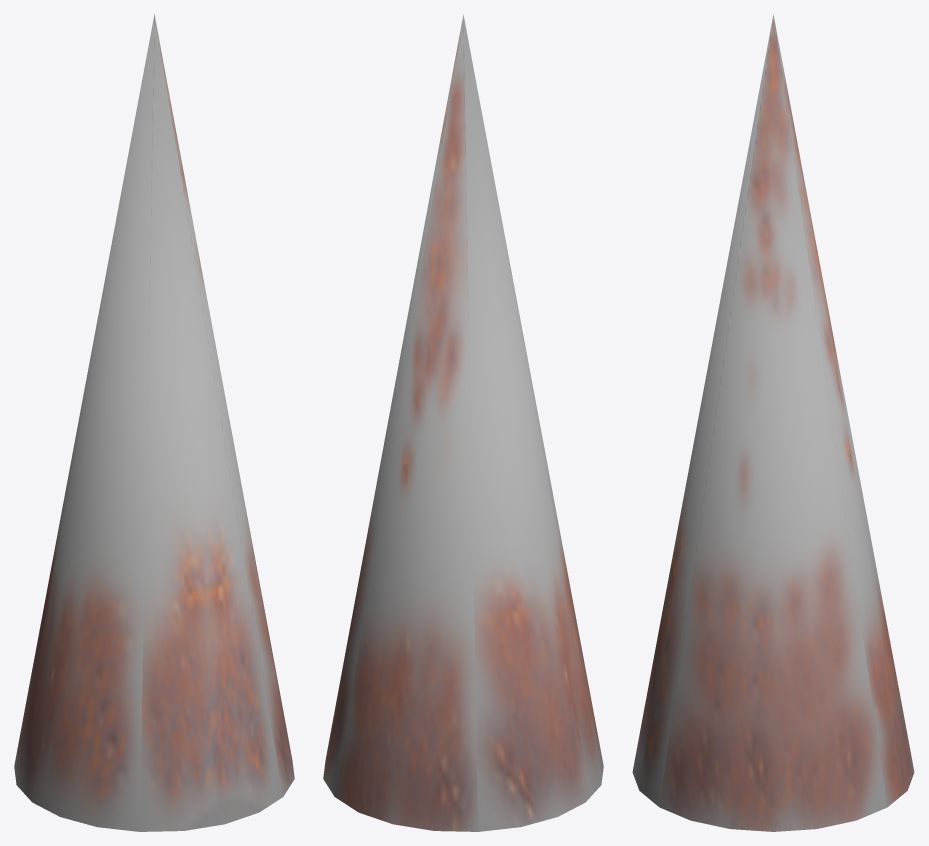
File: Spikes.fbx
The picture shows the model from 3 angles, left to right: view 1: azimuth 30°, elevation 25°; view 2: azimuth 150°, elevation 25°; view 3: azimuth 270°, elevation 25°; orthographic projection.
Visible parts, largest first — view 1: pCone1; view 2: pCone1; view 3: pCone1.
Boxes of the visible parts, x1,y1,x2,y2 form: pCone1: (14,14,294,831); pCone1: (323,14,603,831); pCone1: (632,14,914,831).
Size of the model in its own units: 1.28 by 3.8 by 1.28.
